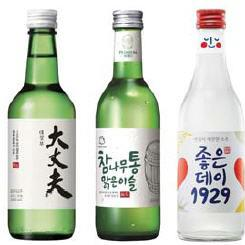soju: (6, 8, 244, 240)
